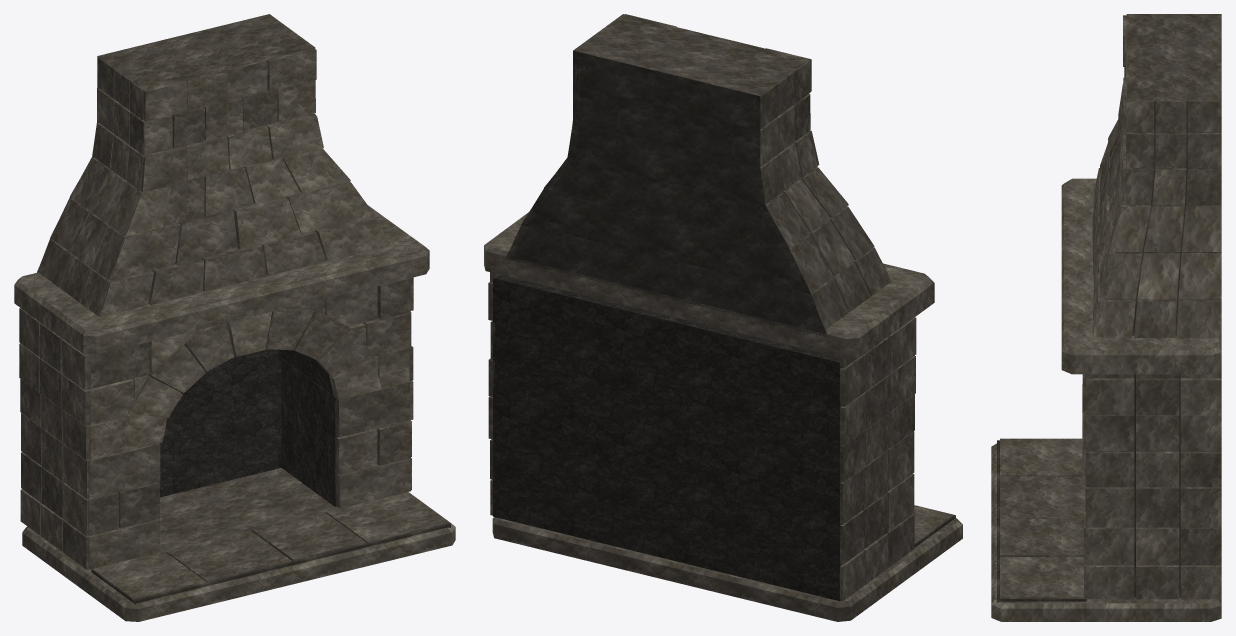
Rendered from Lareira-Limpa.glb.
3 views of the same model, side by side, from view 1: azimuth 30°, elevation 25°; view 2: azimuth 150°, elevation 25°; view 3: azimuth 270°, elevation 25° (orthographic). The views are drawn at different scales.
Parts seen in each view (by area): view 1: Pedras da chaminé, Prateleira da lareira, Pedras dos pilares, Pedras laterais, Fundo da fornalha, Lajes da frente, Pedras do arco, Pedras acima do arco, Soleira, Piso da fornalha, Chaminé, Laterais da fornalha (+1 smaller); view 2: Fundo da fornalha, Chaminé, Pedras laterais, Pedras da chaminé, Prateleira da lareira, Soleira, Lajes da frente; view 3: Pedras laterais, Pedras da chaminé, Lajes da frente, Prateleira da lareira, Chaminé, Soleira, Pano de pedra, Pilares.
Boxes of the visible parts, x1,y1,x2,y2 form: Pedras da chaminé: [37, 48, 390, 316]; Prateleira da lareira: [14, 205, 429, 354]; Pedras dos pilares: [87, 381, 410, 569]; Pedras laterais: [19, 277, 413, 569]; Fundo da fornalha: [159, 349, 281, 497]; Lajes da frente: [91, 492, 448, 600]; Pedras do arco: [119, 309, 381, 452]; Pedras acima do arco: [88, 278, 410, 459]; Soleira: [22, 492, 455, 621]; Piso da fornalha: [159, 468, 338, 551]; Chaminé: [45, 14, 315, 294]; Laterais da fornalha: [281, 358, 337, 506]; Fundo da fornalha: [493, 274, 841, 601]; Chaminé: [505, 14, 827, 337]; Pedras laterais: [488, 272, 916, 600]; Pedras da chaminé: [505, 14, 891, 333]; Prateleira da lareira: [484, 212, 934, 358]; Soleira: [492, 515, 962, 621]; Lajes da frente: [913, 505, 954, 544]; Pedras laterais: [1086, 371, 1221, 599]; Pedras da chaminé: [1092, 15, 1221, 341]; Lajes da frente: [1000, 438, 1085, 598]; Prateleira da lareira: [1061, 178, 1221, 374]; Chaminé: [1106, 14, 1221, 336]; Soleira: [991, 440, 1221, 621]; Pano de pedra: [1092, 374, 1201, 485]; Pilares: [1134, 486, 1180, 597].
Bounding box in the file's own units: 1.74 × 2.24 × 0.972.
3 materials, 3 textured.
